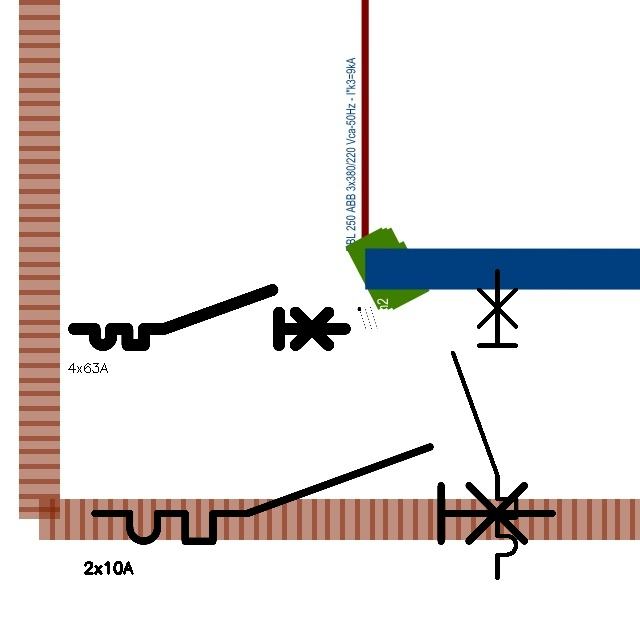interruptor_termomagnetico: (83, 435, 564, 553), (445, 263, 524, 586), (67, 283, 352, 352)
